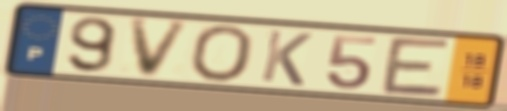5: (324, 32, 381, 91)
9: (66, 16, 119, 75)
E: (378, 34, 454, 99)
K: (257, 27, 316, 88)
O: (187, 23, 257, 84)
V: (127, 17, 195, 80)
